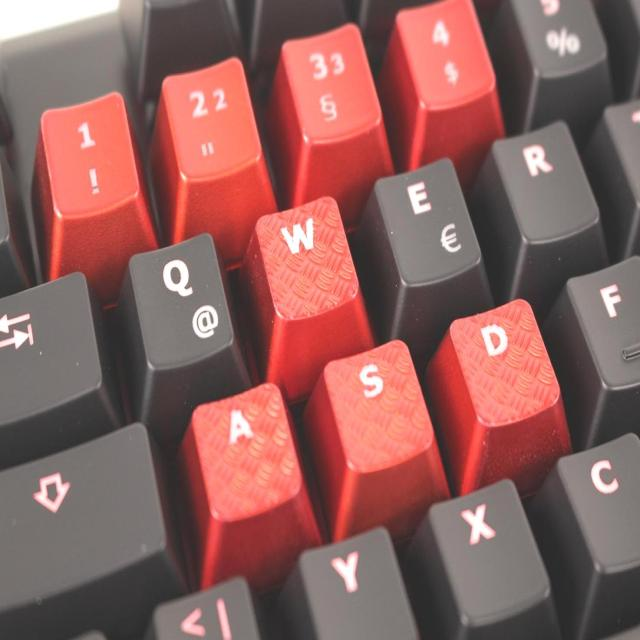1: (39, 89, 142, 216)
2: (160, 55, 264, 181)
3: (279, 18, 383, 144)
4: (393, 0, 497, 113)
5: (505, 0, 608, 89)
a: (191, 381, 305, 524)
c: (557, 427, 640, 575)
d: (448, 293, 562, 436)
e: (370, 150, 484, 293)
f: (566, 249, 640, 393)
less: (155, 573, 264, 640)
q: (123, 229, 237, 373)
r: (485, 117, 605, 243)
s: (322, 333, 436, 476)
shift-lock: (0, 419, 166, 616)
t: (604, 88, 640, 214)
tab: (0, 265, 106, 429)
w: (253, 194, 367, 338)
x: (421, 476, 556, 624)
y: (297, 521, 424, 640)
